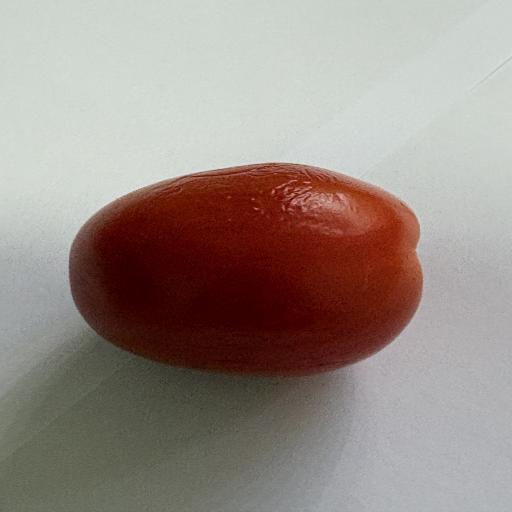spoiled: (69, 163, 422, 375)
